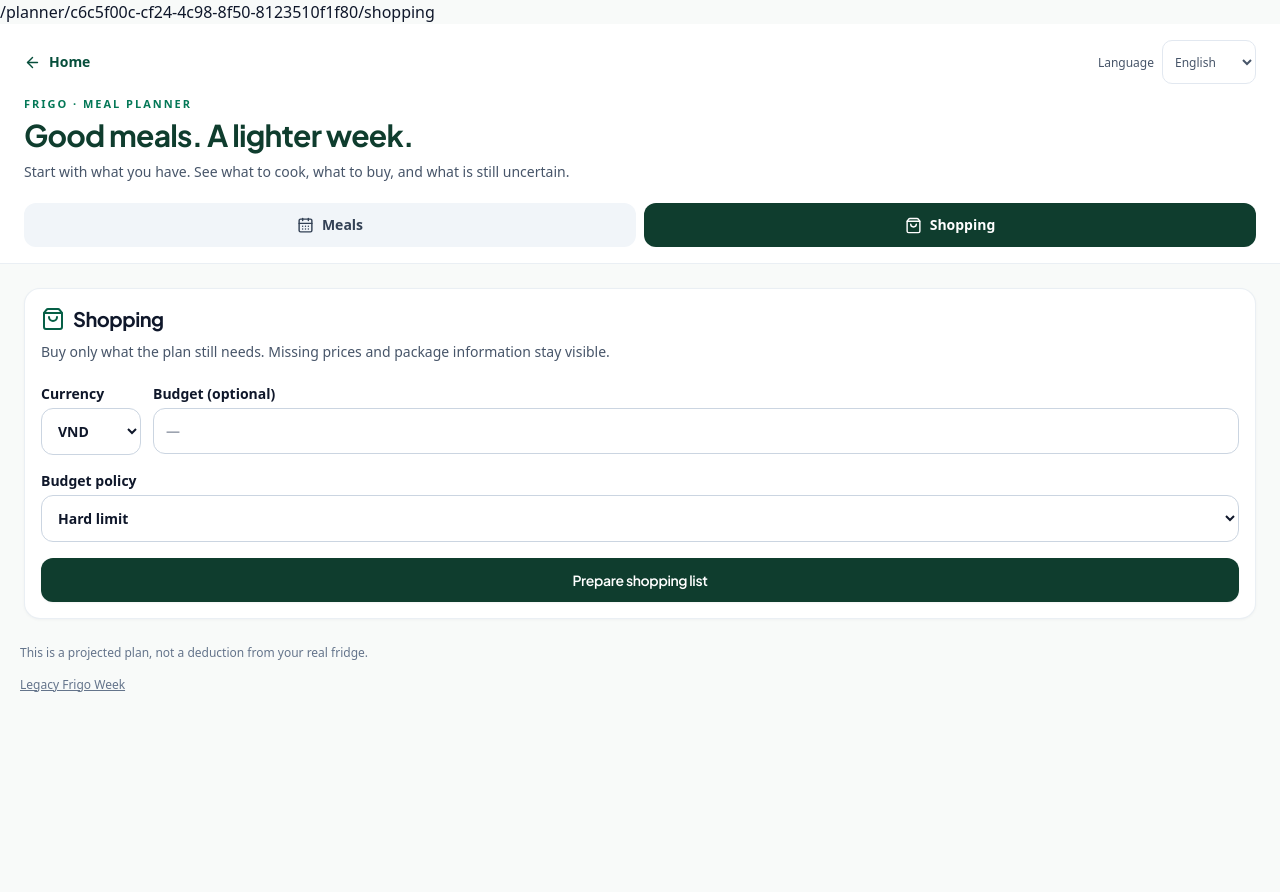
Scenario: T07 planner mounted route and session audit › removes shopping state after same-session navigation from shopping to regeneration
Click the button "Prepare shopping list".
click(640, 580)  # box [41,558,1239,602]
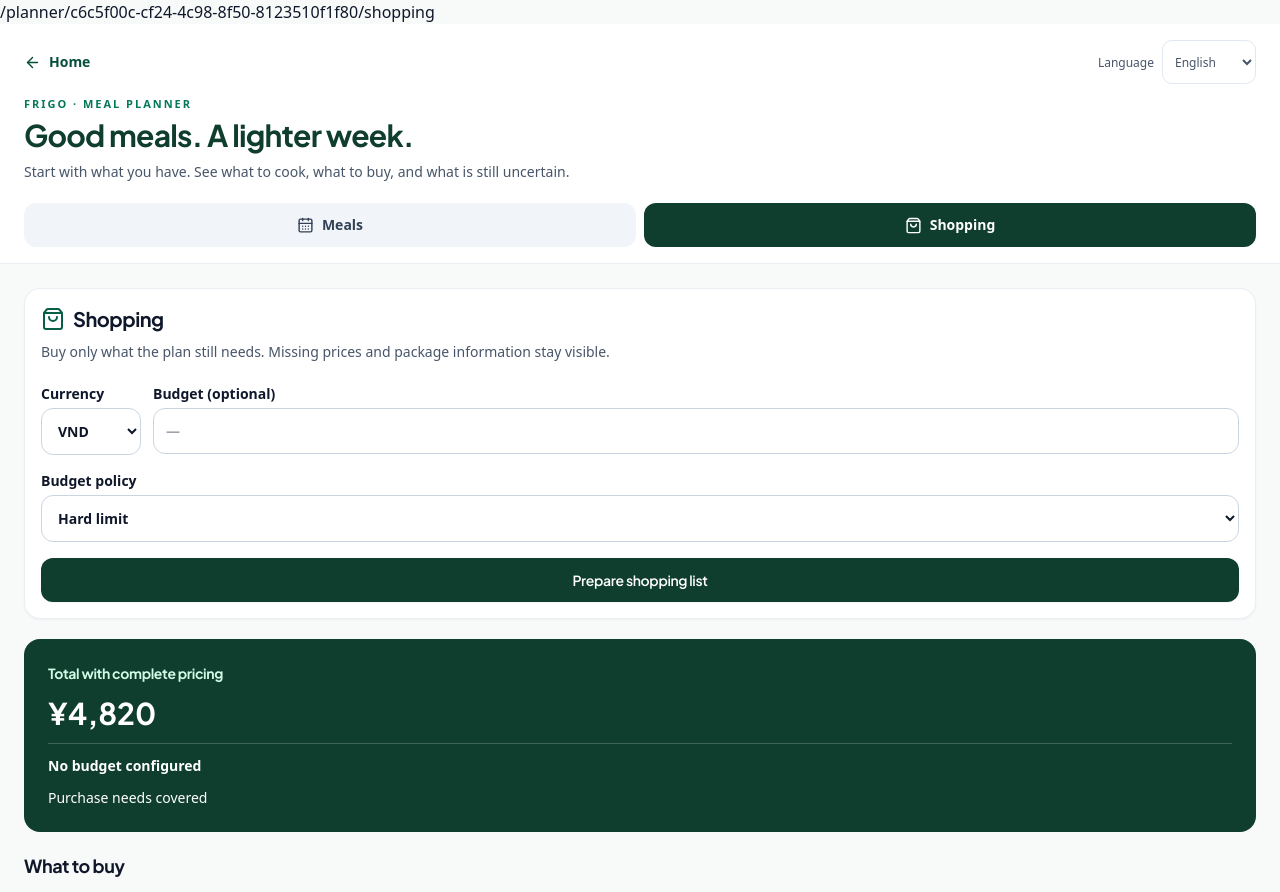
Click the link "Meals".
click(330, 225)  # box [24,203,636,247]
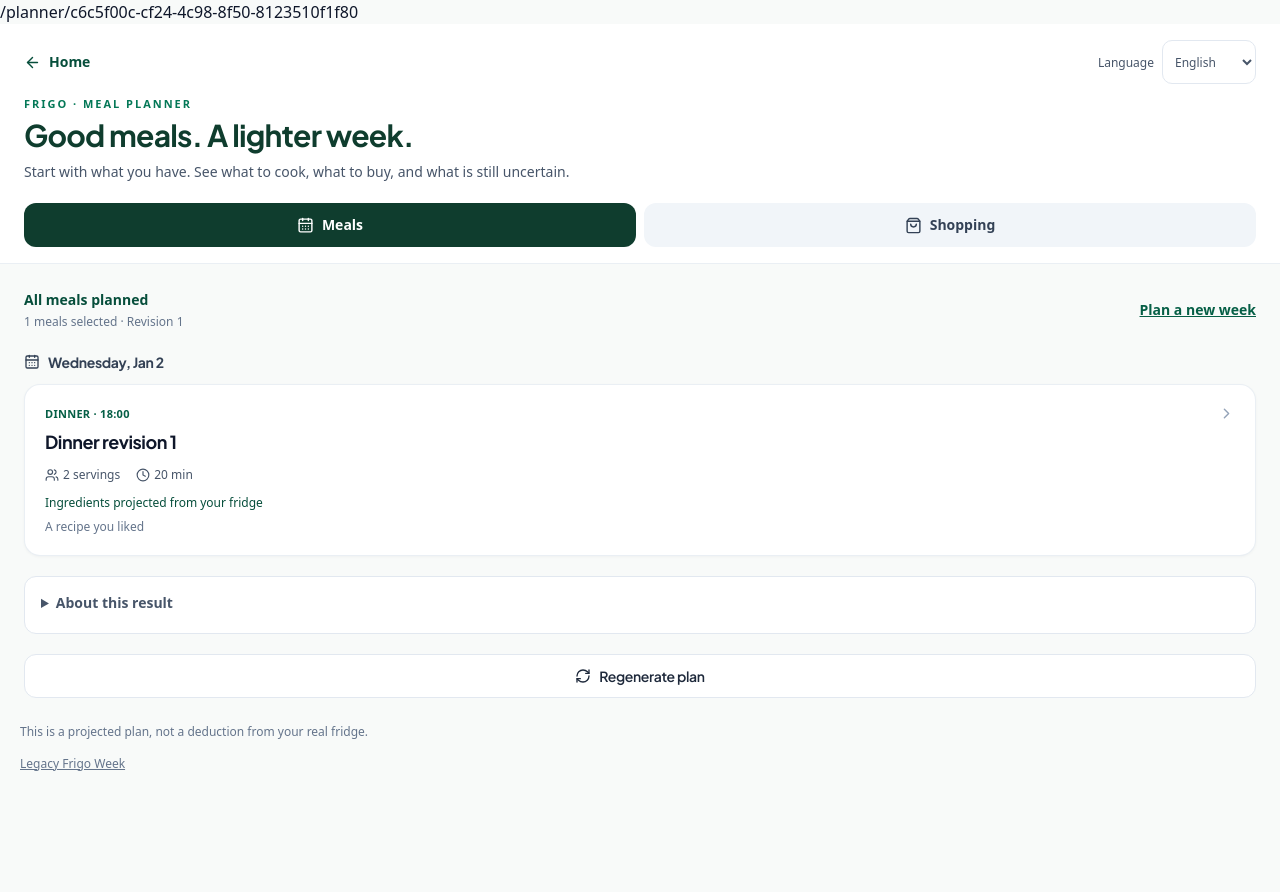
Click the button "Regenerate plan".
click(640, 676)  # box [24,654,1256,698]
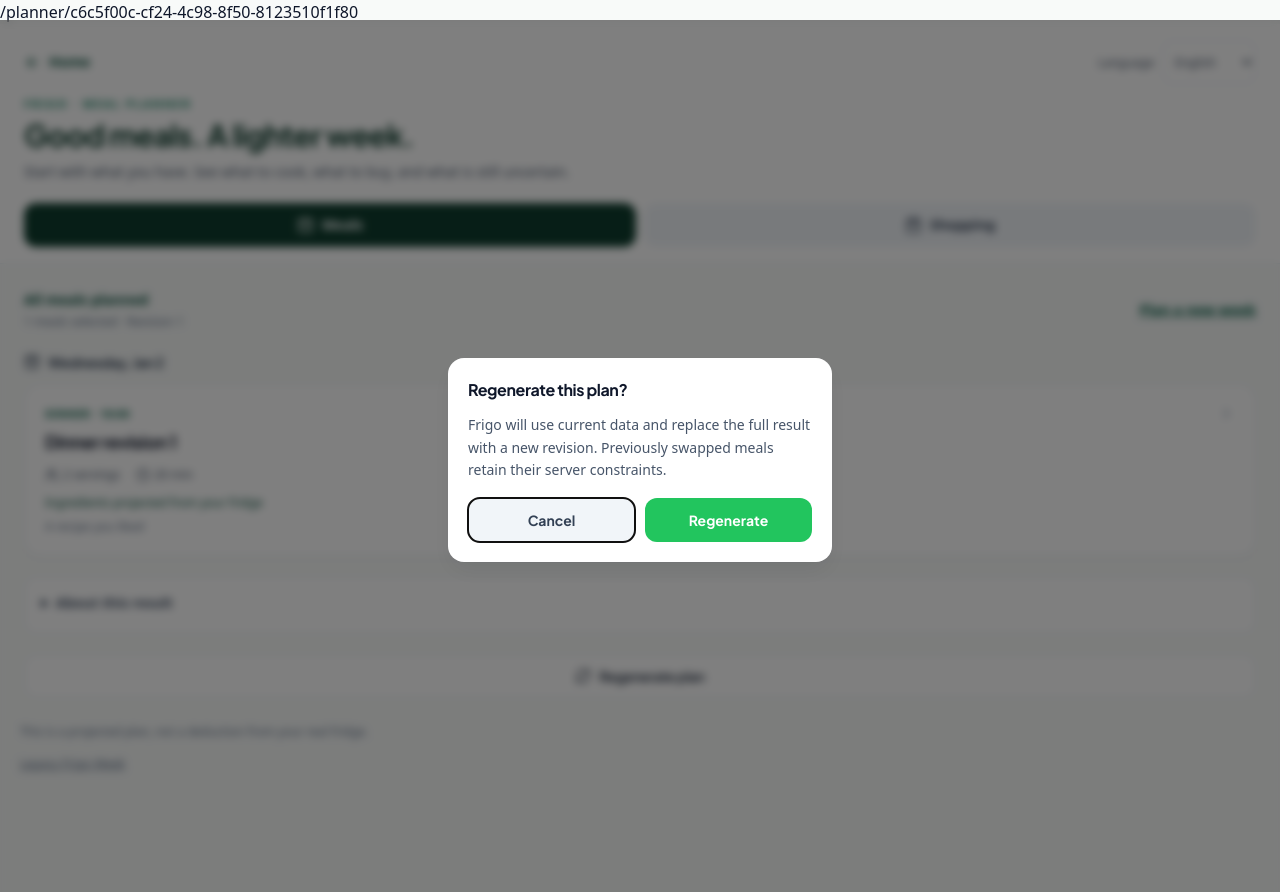
Expected: the button "Regenerate" is shown
Click the button "Regenerate".
click(728, 520)  # box [645,498,812,542]
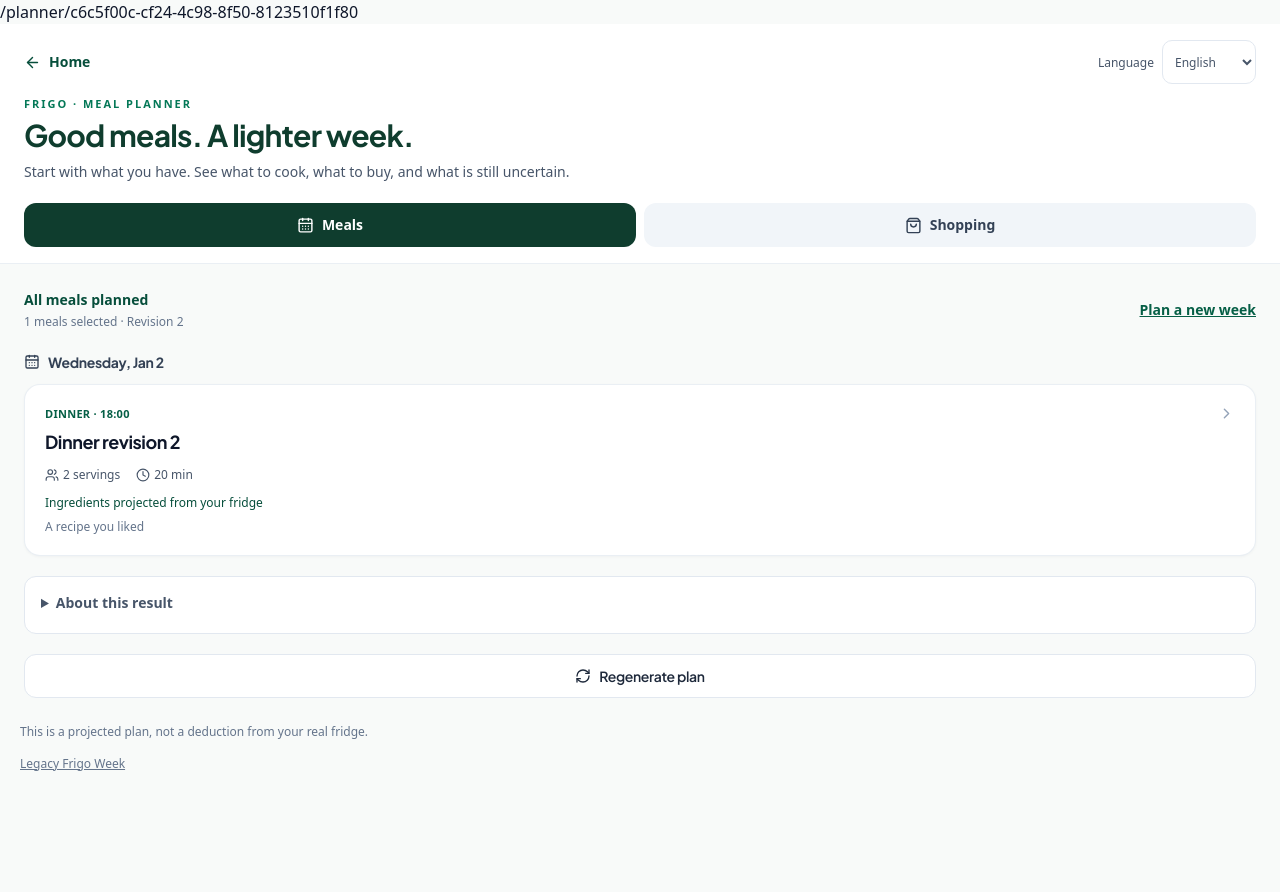
Expected: the text "Dinner revision 2" is shown, [45,430,180,453]
